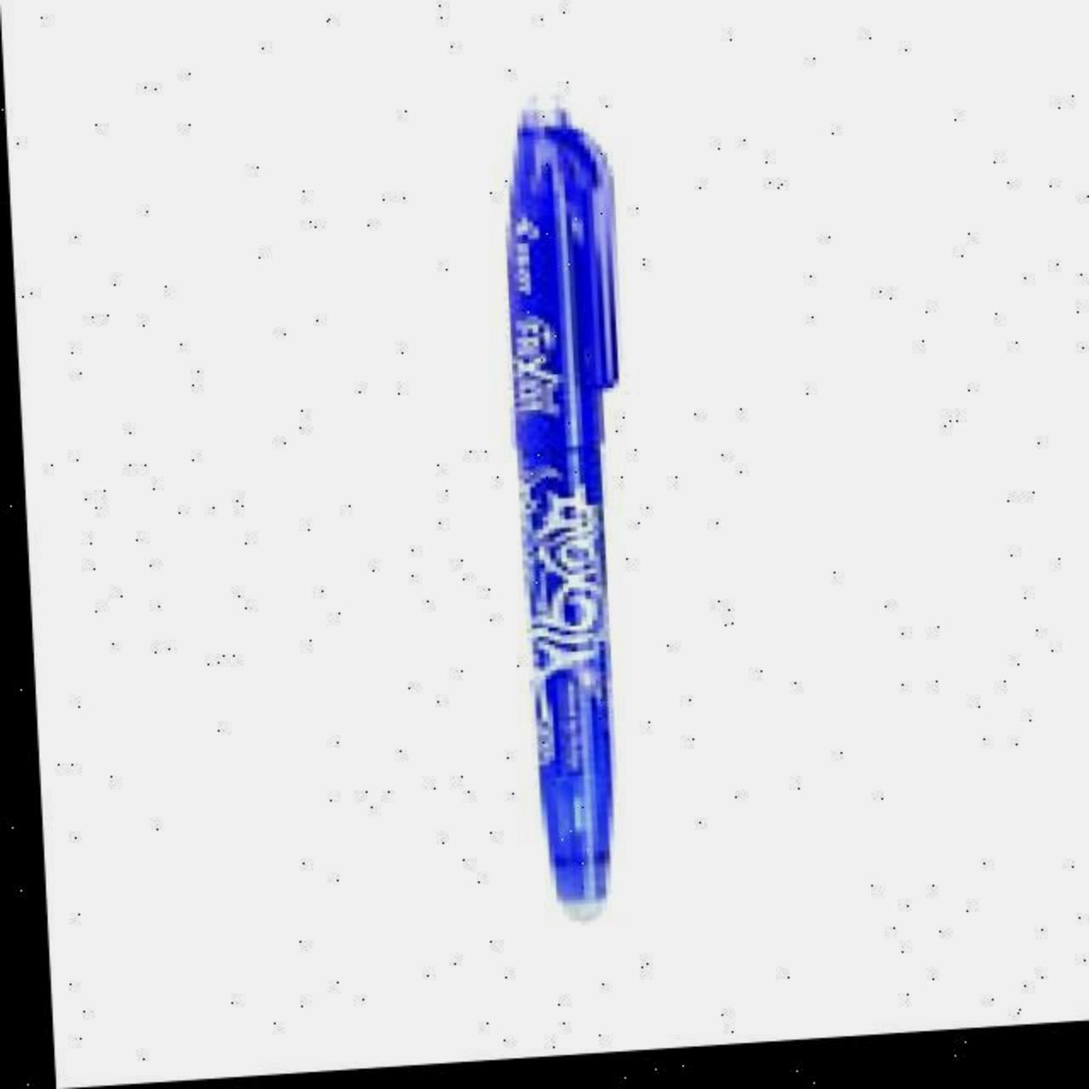pen: (492, 92, 635, 938)
